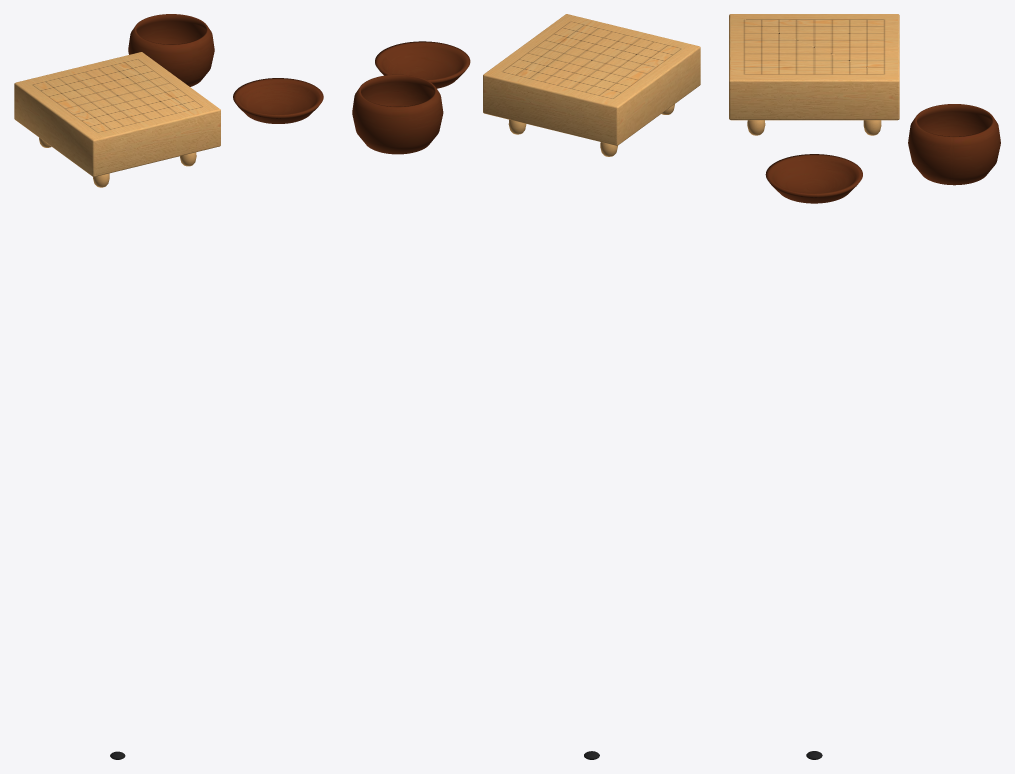
File: goban-hafif.glb
3 views of the same model, side by side, from view 1: azimuth 30°, elevation 25°; view 2: azimuth 150°, elevation 25°; view 3: azimuth 270°, elevation 25° (orthographic). The views are drawn at different scales.
Visible parts, largest first — view 1: Tahta, Kase, Kapak; view 2: Tahta, Kase, Kapak; view 3: Tahta, Kase, Kapak.
Part boxes in pixels (x1,y1,x2,y2): Tahta: (14, 52, 220, 176); Kase: (128, 14, 214, 86); Kapak: (233, 78, 323, 123); Tahta: (483, 14, 700, 145); Kase: (352, 74, 443, 154); Kapak: (375, 41, 470, 88); Tahta: (729, 14, 899, 120); Kase: (908, 104, 1000, 185); Kapak: (765, 154, 862, 203).
Size of the model in its own units: 0.444 by 1.06 by 0.3688.
Materials: 5 (4 with a texture image).
